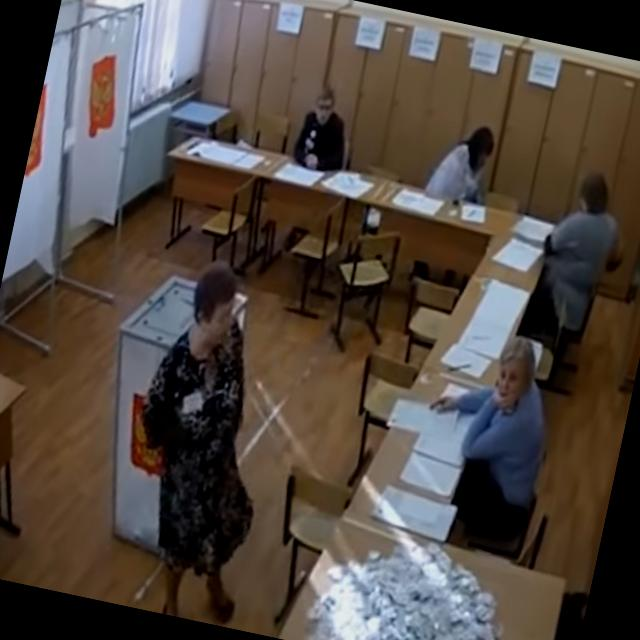person: (100, 251, 305, 628), (404, 320, 566, 546), (521, 160, 640, 352), (404, 114, 502, 294), (272, 82, 361, 258), (424, 114, 500, 207), (289, 82, 360, 177)
